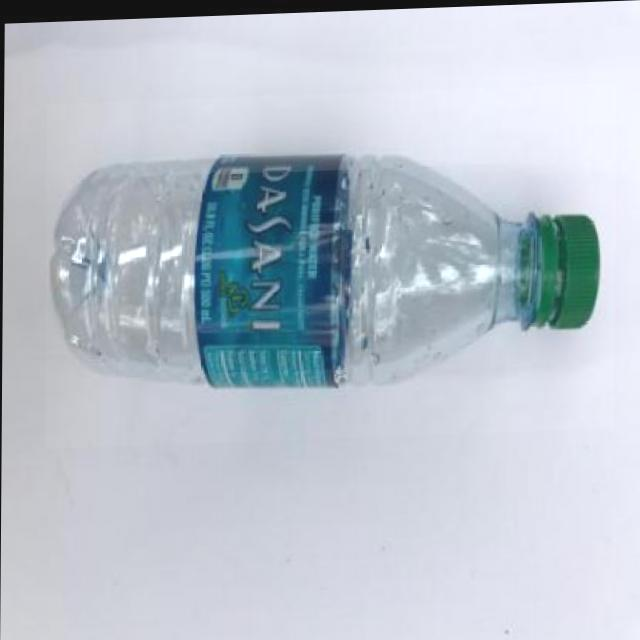bottle: (44, 83, 615, 444)
